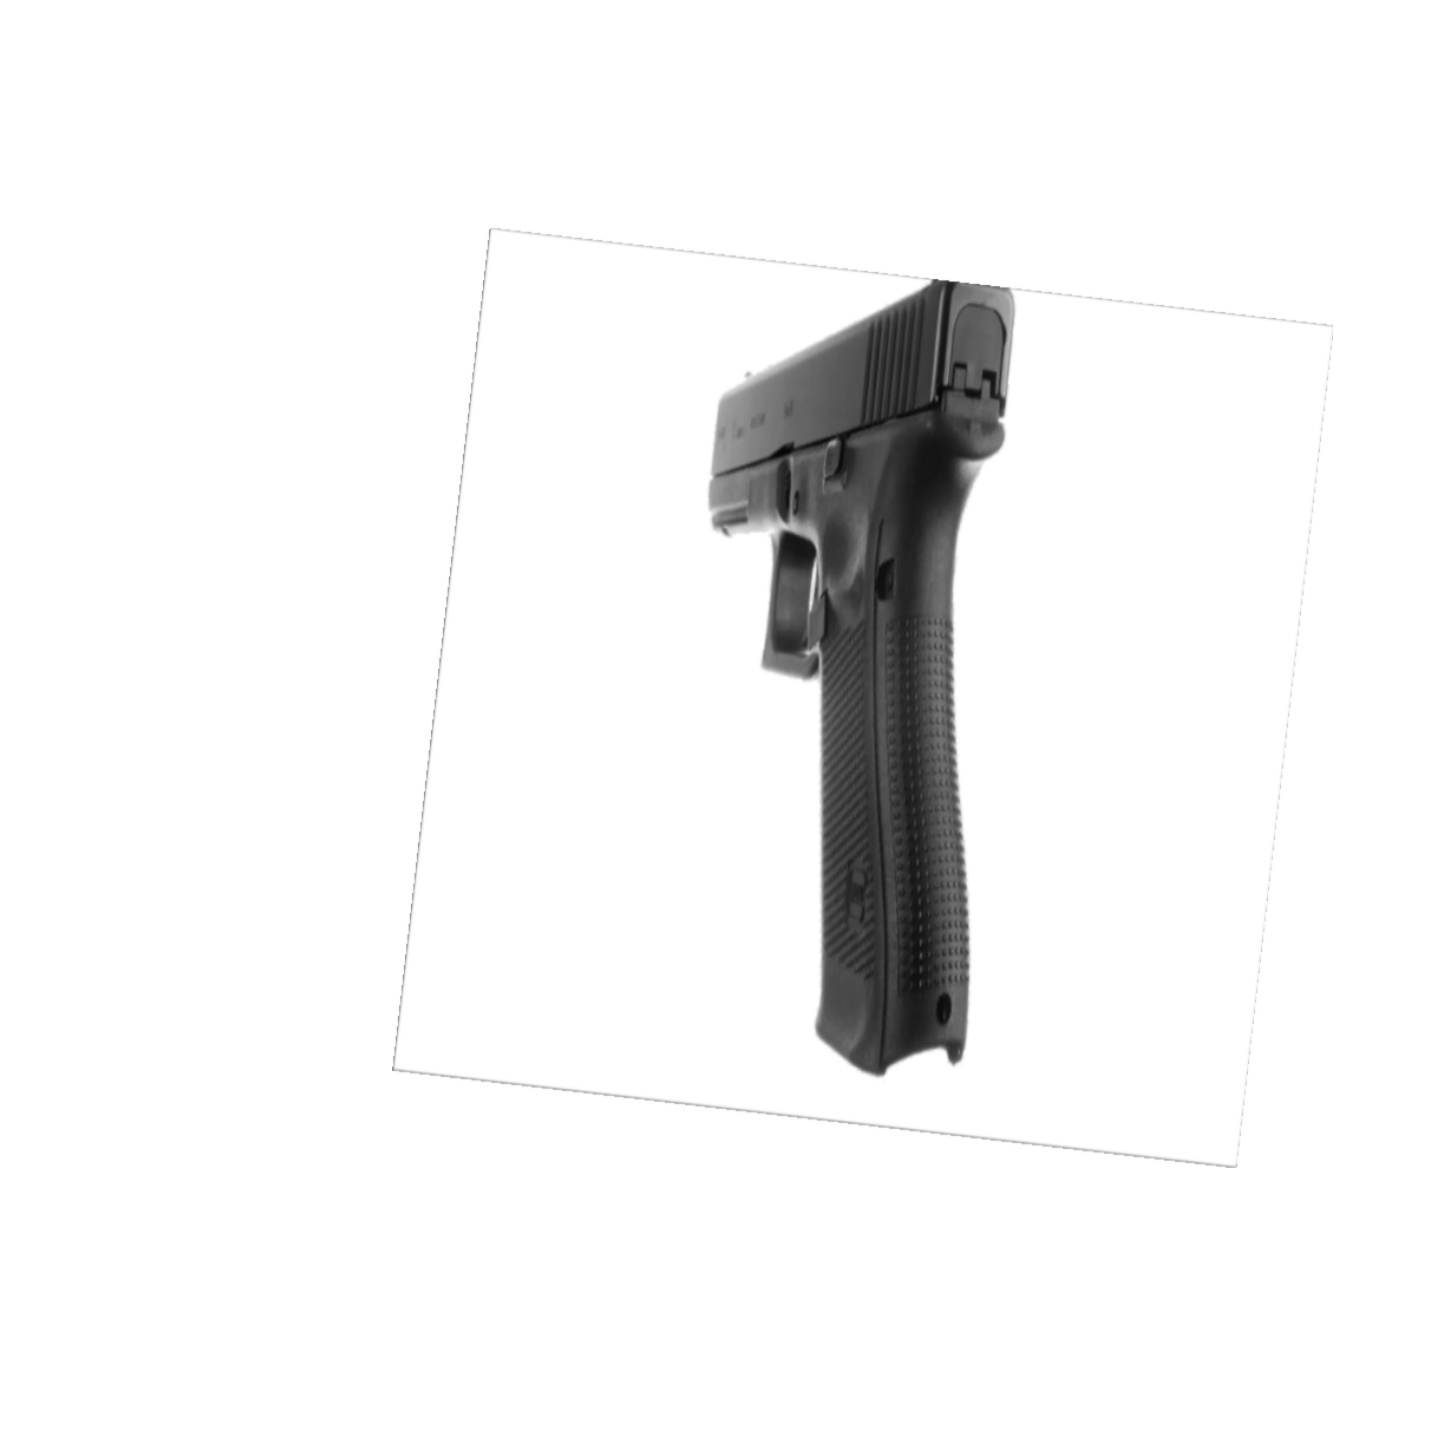gun: (703, 275, 1021, 1075)
